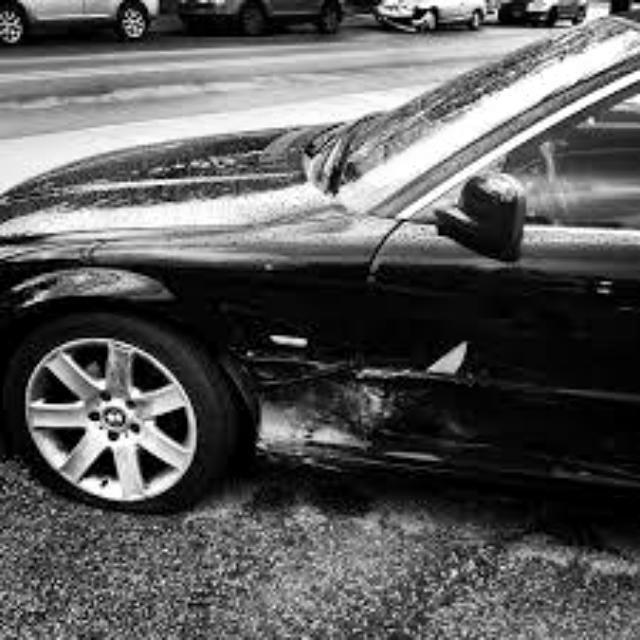Front-windscreen-damage: (333, 0, 620, 150)
bonnet-dent: (15, 120, 322, 225)
doorouter-dent: (382, 237, 569, 464)
fender-dent: (216, 239, 352, 463)
